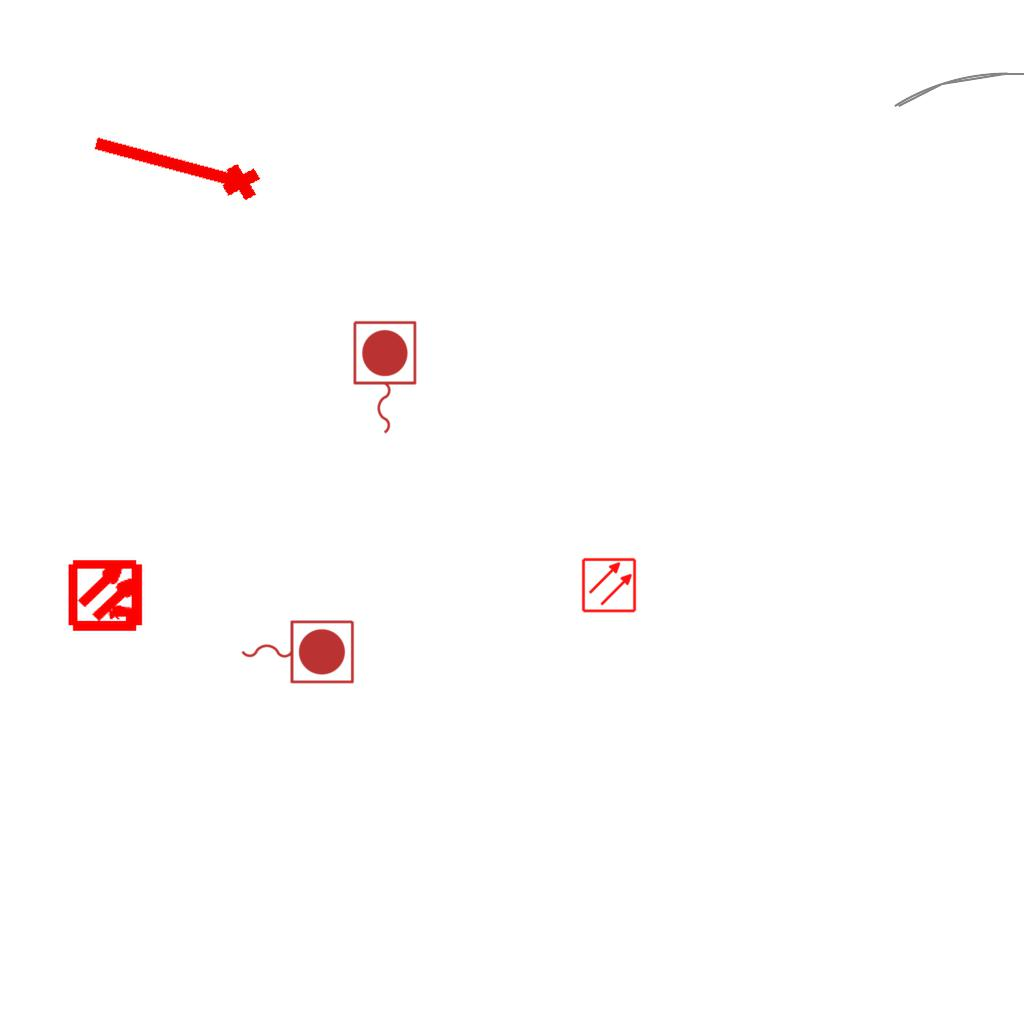ASR_Ansaugoeffnung: (84, 122, 266, 212)
OT_Multisensormelder_(Kombination_RMO_WMD): (51, 539, 164, 652)
RMO_Rauchmelder_optischer: (581, 557, 637, 613)
Zugtaster: (236, 615, 358, 687), (348, 317, 420, 439)
